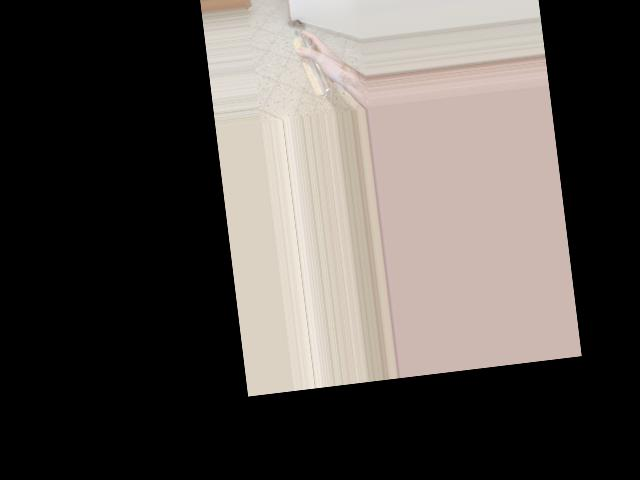cheese: (283, 21, 346, 93)
